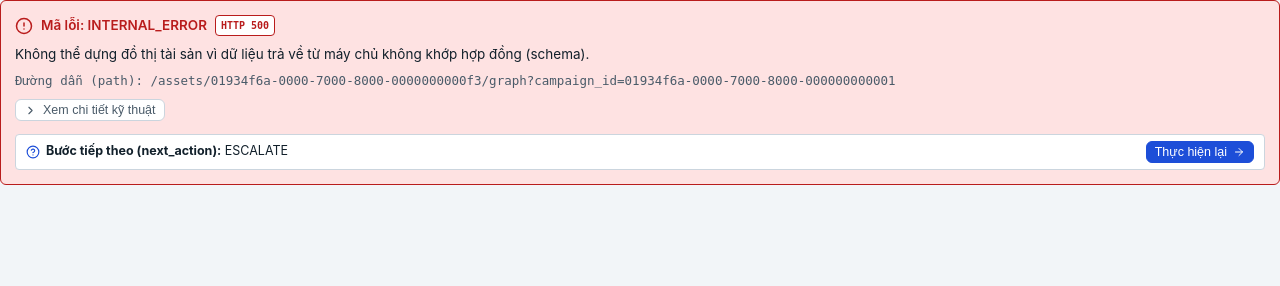
Ultron UI Reusable Components › collapses schema dump behind technical details toggle while keeping short operator summary (D3)
This screenshot has width=1280, height=286.
Expected: the text "Mã lỗi: INTERNAL_ERROR" is shown, left=41, top=15, right=207, bottom=36
Expected: the text "HTTP 500" is shown, left=215, top=15, right=275, bottom=36
Click the button "Xem chi tiết kỹ thuật". click: (90, 110)
box: left=15, top=99, right=165, bottom=121
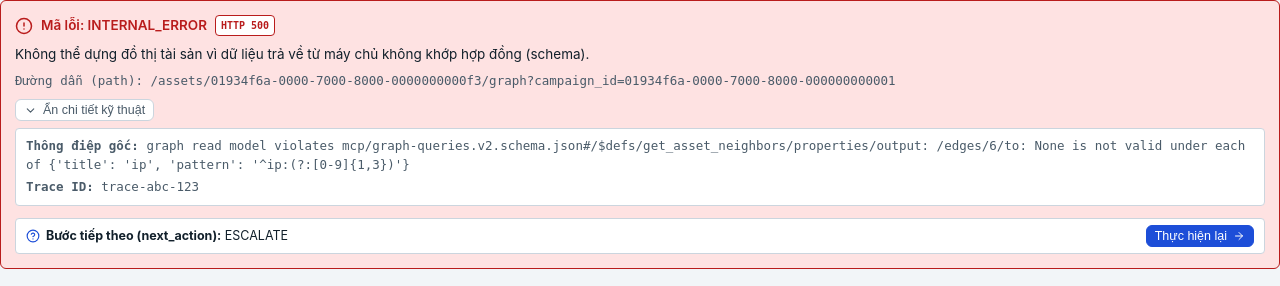
Expected: the button named "Xem chi tiết kỹ thuật" is expanded, left=15, top=99, right=154, bottom=121
Expected: the text "None is not valid under each of" is shown, left=26, top=138, right=1245, bottom=172
Expected: the text "Trace ID: trace-abc-123" is shown, left=26, top=179, right=199, bottom=194
